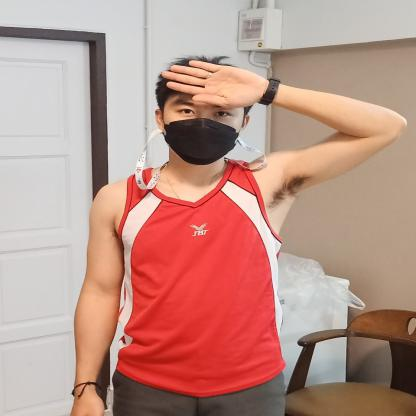Sick: (135, 49, 410, 179)
